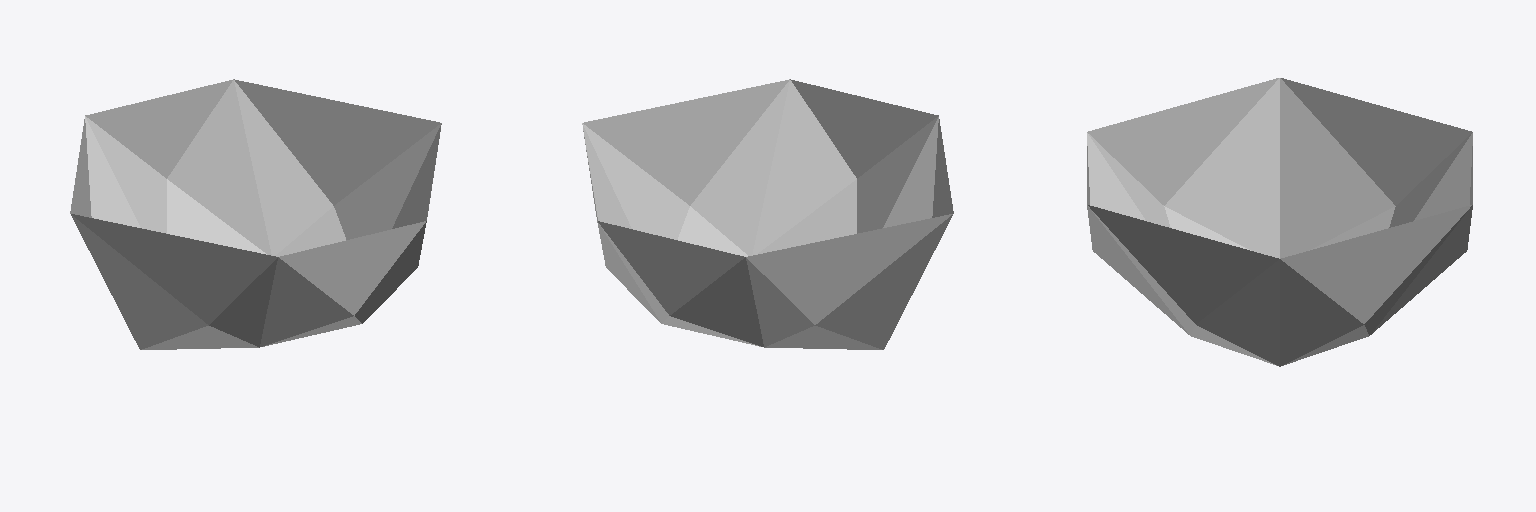
The model's file is carbon_leg_gem.obj.
The picture shows the model from 3 angles: view 1: azimuth 30°, elevation 25°; view 2: azimuth 150°, elevation 25°; view 3: azimuth 270°, elevation 25°; orthographic projection.
Parts seen in each view (by area): view 1: CarbonLegGem; view 2: CarbonLegGem; view 3: CarbonLegGem.
Part boxes in pixels (left/top/right/bottom): CarbonLegGem: left=70, top=79, right=441, bottom=349; CarbonLegGem: left=582, top=79, right=953, bottom=349; CarbonLegGem: left=1087, top=78, right=1472, bottom=366.
Bounding box in the file's own units: 2 × 0.9029 × 1.8.